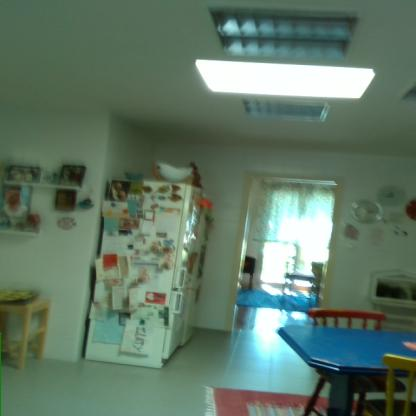open: (230, 163, 350, 336)
